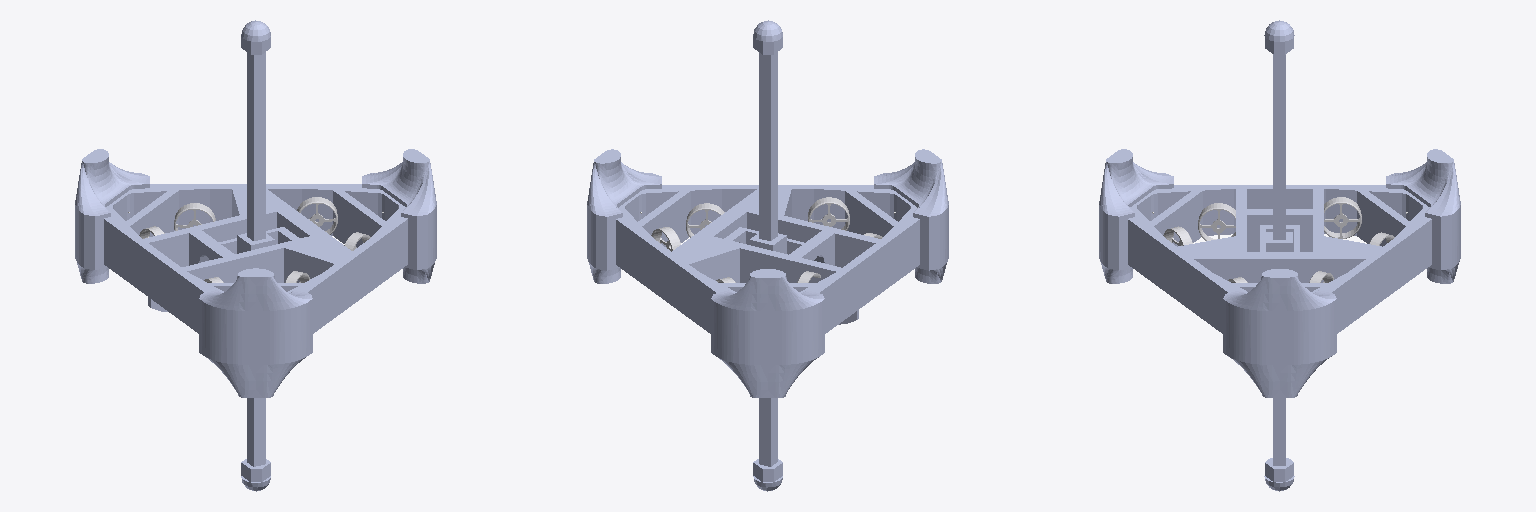
URDF robot description (ramiel2):
<?xml version="1.0" encoding="utf-8"?>
<!-- This URDF was automatically created by SolidWorks to URDF Exporter! Originally created by Stephen Brawner (brawner@gmail.com) 
     Commit Version: 1.6.0-4-g7f85cfe  Build Version: 1.6.7995.38578
     For more information, please see http://wiki.ros.org/sw_urdf_exporter -->
<robot
  name="ramiel2">
  <link
    name="base_link">
    <inertial>
      <origin
        xyz="-0.0163 0.0056 -0.00642"
        rpy="0 0 0" />
      <mass
        value="13.959" />
      <inertia
        ixx="0.58153312113"
        ixy="0.00047377296"
        ixz="0.01002995747"
        iyy="0.62883843864"
        iyz="-0.00135094509"
        izz="1.10481157886" />
    </inertial>
    <visual>
      <origin
        xyz="0 0 0"
        rpy="0 0 0" />
      <geometry>
        <mesh
          filename="../meshes/base_link.STL" />
      </geometry>
      <material
        name="">
        <color
          rgba="0.792156862745098 0.819607843137255 0.933333333333333 1" />
      </material>
    </visual>
    <collision>
      <geometry>
        <cylinder radius="0.04" length="0.29"/>
      </geometry>
      <origin xyz="0.37 0 0" rpy="0 0 0" />
    </collision>
    <collision>
      <geometry>
        <cylinder radius="0.04" length="0.29"/>
      </geometry>
      <origin xyz="-0.185 0.32 0" rpy="0 0 0" />
    </collision>
    <collision>
      <geometry>
        <cylinder radius="0.04" length="0.29"/>
      </geometry>
      <origin xyz="-0.185 -0.32 0" rpy="0 0 0" />
    </collision>
  </link>
  <link
    name="roll_pitch_link">
    <inertial>
      <origin
        xyz="-0.00089 0.0 0.00520"
        rpy="0 0 0" />
      <mass
        value="0.41229" />
      <inertia
        ixx="0.00063411708"
        ixy="1.4203e-7"
        ixz="0.00000170051"
        iyy="0.00193834263"
        iyz="3.96e-9"
        izz="0.00150421906" />
    </inertial>
    <visual>
      <origin
        xyz="0 0 0"
        rpy="0 0 0" />
      <geometry>
        <mesh
          filename="../meshes/roll_pitch_link.STL" />
      </geometry>
      <material
        name="">
        <color
          rgba="0.792156862745098 0.819607843137255 0.933333333333333 1" />
      </material>
    </visual>
  </link>
  <joint
    name="roll"
    type="revolute">
    <origin
      xyz="0 0 0"
      rpy="0 0 0" />
    <parent
      link="base_link" />
    <child
      link="roll_pitch_link" />
    <axis
      xyz="1 0 0" />
    <limit
      lower="-0.69813170079"
      upper="0.69813170079"
      effort="100"
      velocity="500" />
  </joint>
  <link
    name="pitch_slide_link">
    <inertial>
      <origin
        xyz="-0.00583 -0.00105 -0.00041"
        rpy="0 0 0" />
      <mass
        value="0.54748" />
      <inertia
        ixx="0.00066451246"
        ixy="0.00001381471"
        ixz="0.00000679945"
        iyy="0.00069734504"
        iyz="-5.6057e-7"
        izz="0.00051290376" />
    </inertial>
    <visual>
      <origin
        xyz="0 0 0"
        rpy="0 0 0" />
      <geometry>
        <mesh
          filename="../meshes/pitch_slide_link.STL" />
      </geometry>
      <material
        name="">
        <color
          rgba="0.792156862745098 0.819607843137255 0.933333333333333 1" />
      </material>
    </visual>
  </link>
  <joint
    name="pitch"
    type="revolute">
    <origin
      xyz="0 -0.001 0"
      rpy="0 0 0" />
    <parent
      link="roll_pitch_link" />
    <child
      link="pitch_slide_link" />
    <axis
      xyz="0 1 0" />
    <limit
      lower="-0.69813170079"
      upper="0.69813170079"
      effort="100"
      velocity="500" />
  </joint>
  <link
    name="leg_link">
    <inertial>
      <origin
        xyz="0.0 0.00001 0.0"
        rpy="0 0 0" />
      <mass
        value="0.616" />
      <inertia
        ixx="0.08657454998"
        ixy="0.00"
        ixz="0.00"
        iyy="0.0001891915"
        iyz="-3e-11"
        izz="0.08657454948" />
    </inertial>
    <visual>
      <origin
        xyz="0 0 0"
        rpy="0 0 0" />
      <geometry>
        <mesh
          filename="../meshes/leg_link.STL" />
      </geometry>
      <material
        name="">
        <color
          rgba="0.792156862745098 0.819607843137255 0.933333333333333 1" />
      </material>
    </visual>
    <collision>
      <geometry>
        <cylinder radius="0.033" length="1.064"/>
      </geometry>
      <origin xyz="0 0 0" rpy="0 0 0" />
    </collision>
  </link>
  <joint
    name="slide"
    type="prismatic">
    <origin
      xyz="0 0 0"
      rpy="0 0 0" />
    <parent
      link="pitch_slide_link" />
    <child
      link="leg_link" />
    <axis
      xyz="0 0 1" />
    <limit
      lower="-0.4195"
      upper="0.4195"
      effort="1000"
      velocity="20" />
  </joint>
 <link
    name="point_leg_0_1">
    <inertial>
      <origin
        xyz="2.08166817117217E-17 3.46944695195361E-18 0"
        rpy="0 0 0" />
      <mass
        value="3.41805280710569E-05" />
      <inertia
        ixx="5.46888449136911E-11"
        ixy="0"
        ixz="0"
        iyy="5.46888449136911E-11"
        iyz="0"
        izz="5.46888449136911E-11" />
    </inertial>
    <visual>
      <origin
        xyz="0 0 0"
        rpy="0 0 0" />
      <geometry>
        <mesh
          filename="../meshes/point_leg_0_1.STL" />
      </geometry>
      <material
        name="">
        <color
          rgba="1 1 1 1" />
      </material>
    </visual>
  </link>
  <joint
    name="point_leg_0_1_dummy"
    type="fixed"
    dont_collapse="true">
    <origin
      xyz="0.024 0 0.52"
      rpy="0 0 0" />
    <parent
      link="leg_link" />
    <child
      link="point_leg_0_1" />
    <axis
      xyz="0 0 0" />
  </joint>
  <link
    name="point_leg_1_1">
    <inertial>
      <origin
        xyz="4.3368E-16 -1.9429E-16 0"
        rpy="0 0 0" />
      <mass
        value="3.4181E-05" />
      <inertia
        ixx="5.4689E-11"
        ixy="0"
        ixz="0"
        iyy="5.4689E-11"
        iyz="0"
        izz="5.4689E-11" />
    </inertial>
    <visual>
      <origin
        xyz="0 0 0"
        rpy="0 0 0" />
      <geometry>
        <mesh
          filename="../meshes/point_leg_1_1.STL" />
      </geometry>
      <material
        name="">
        <color
          rgba="1 1 1 1" />
      </material>
    </visual>
  </link>
  <joint
    name="point_leg_1_1_dummy"
    type="fixed"
    dont_collapse="true">
    <origin
      xyz="-0.012 0.020785 0.52"
      rpy="0 0 0" />
    <parent
      link="leg_link" />
    <child
      link="point_leg_1_1" />
    <axis
      xyz="0 0 0" />
  </joint>
 <link
    name="point_leg_2_1">
    <inertial>
      <origin
        xyz="-4.38885039422132E-16 7.28583859910259E-17 0"
        rpy="0 0 0" />
      <mass
        value="3.41805280710569E-05" />
      <inertia
        ixx="5.46888449136911E-11"
        ixy="0"
        ixz="0"
        iyy="5.46888449136911E-11"
        iyz="0"
        izz="5.46888449136911E-11" />
    </inertial>
    <visual>
      <origin
        xyz="0 0 0"
        rpy="0 0 0" />
      <geometry>
        <mesh
          filename="../meshes/point_leg_2_1.STL" />
      </geometry>
      <material
        name="">
        <color
          rgba="1 1 1 1" />
      </material>
    </visual>
  </link>
  <joint
    name="point_leg_2_1_dummy"
    type="fixed"
    dont_collapse="true">
    <origin
      xyz="-0.012 -0.0207846096908265 0.52"
      rpy="0 0 0" />
    <parent
      link="leg_link" />
    <child
      link="point_leg_2_1" />
    <axis
      xyz="0 0 0" />
  </joint>
  <link
    name="point_leg_3_1">
    <inertial>
      <origin
        xyz="2.08166817117217E-17 3.46944695195361E-18 0"
        rpy="0 0 0" />
      <mass
        value="3.41805280710569E-05" />
      <inertia
        ixx="5.46888449136911E-11"
        ixy="0"
        ixz="0"
        iyy="5.46888449136911E-11"
        iyz="0"
        izz="5.46888449136911E-11" />
    </inertial>
    <visual>
      <origin
        xyz="0 0 0"
        rpy="0 0 0" />
      <geometry>
        <mesh
          filename="../meshes/point_leg_3_1.STL" />
      </geometry>
      <material
        name="">
        <color
          rgba="1 1 1 1" />
      </material>
    </visual>
  </link>
  <joint
    name="point_leg_3_1_dummy"
    type="fixed"
    dont_collapse="true">
    <origin
      xyz="0.024 0 -0.52"
      rpy="0 0 0" />
    <parent
      link="leg_link" />
    <child
      link="point_leg_3_1" />
    <axis
      xyz="0 0 0" />
  </joint>
  <link
    name="point_leg_4_1">
    <inertial>
      <origin
        xyz="-3.59087759527199E-16 6.93889390390723E-18 0"
        rpy="0 0 0" />
      <mass
        value="3.41805280710569E-05" />
      <inertia
        ixx="5.46888449136911E-11"
        ixy="0"
        ixz="0"
        iyy="5.46888449136911E-11"
        iyz="0"
        izz="5.46888449136911E-11" />
    </inertial>
    <visual>
      <origin
        xyz="0 0 0"
        rpy="0 0 0" />
      <geometry>
        <mesh
          filename="../meshes/point_leg_4_1.STL" />
      </geometry>
      <material
        name="">
        <color
          rgba="1 1 1 1" />
      </material>
    </visual>
  </link>
  <joint
    name="point_leg_4_1_dummy"
    type="fixed"
    dont_collapse="true">
    <origin
      xyz="-0.0120000000000001 0.0207846096908265 -0.52"
      rpy="0 0 0" />
    <parent
      link="leg_link" />
    <child
      link="point_leg_4_1" />
    <axis
      xyz="0 0 0" />
  </joint>
  <link
    name="point_leg_5_1">
    <inertial>
      <origin
        xyz="-2.02962646689286E-16 -3.46944695195361E-18 0"
        rpy="0 0 0" />
      <mass
        value="3.41805280710569E-05" />
      <inertia
        ixx="5.46888449136911E-11"
        ixy="0"
        ixz="0"
        iyy="5.46888449136911E-11"
        iyz="0"
        izz="5.46888449136911E-11" />
    </inertial>
    <visual>
      <origin
        xyz="0 0 0"
        rpy="0 0 0" />
      <geometry>
        <mesh
          filename="../meshes/point_leg_5_1.STL" />
      </geometry>
      <material
        name="">
        <color
          rgba="1 1 1 1" />
      </material>
    </visual>
  </link>
  <joint
    name="point_leg_5_1_dummy"
    type="fixed"
    dont_collapse="true">
    <origin
      xyz="-0.012 -0.020785 -0.52"
      rpy="0 0 0" />
    <parent
      link="leg_link" />
    <child
      link="point_leg_5_1" />
    <axis
      xyz="0 0 0" />
  </joint>
  <link
    name="point_base_0_0">
    <inertial>
      <origin
        xyz="0 -8.59044900932015E-18 3.46944695195361E-18"
        rpy="0 0 0" />
      <mass
        value="3.41805280710569E-05" />
      <inertia
        ixx="5.46888449136911E-11"
        ixy="0"
        ixz="0"
        iyy="5.46888449136911E-11"
        iyz="0"
        izz="5.46888449136911E-11" />
    </inertial>
    <visual>
      <origin
        xyz="0 0 0"
        rpy="0 0 0" />
      <geometry>
        <mesh
          filename="../meshes/point_base_0_0.STL" />
      </geometry>
      <material
        name="">
        <color
          rgba="1 1 1 1" />
      </material>
    </visual>
  </link>
  <joint
    name="point_base_0_0_dummy"
    type="fixed"
    dont_collapse="true">
    <origin
      xyz="0.32 0 0.03"
      rpy="0 0 0" />
    <parent
      link="base_link" />
    <child
      link="point_base_0_0" />
    <axis
      xyz="0 0 0" />
  </joint>
  <link
    name="point_base_1_0">
    <inertial>
      <origin
        xyz="1.38777878078145E-16 0 1.38777878078145E-17"
        rpy="0 0 0" />
      <mass
        value="3.41805280710569E-05" />
      <inertia
        ixx="5.46888449136911E-11"
        ixy="0"
        ixz="0"
        iyy="5.46888449136911E-11"
        iyz="0"
        izz="5.46888449136911E-11" />
    </inertial>
    <visual>
      <origin
        xyz="0 0 0"
        rpy="0 0 0" />
      <geometry>
        <mesh
          filename="../meshes/point_base_1_0.STL" />
      </geometry>
      <material
        name="">
        <color
          rgba="1 1 1 1" />
      </material>
    </visual>
  </link>
  <joint
    name="point_base_1_0_dummy"
    type="fixed"
    dont_collapse="true">
    <origin
      xyz="-0.16 0.27713 0.03"
      rpy="0 0 0" />
    <parent
      link="base_link" />
    <child
      link="point_base_1_0" />
    <axis
      xyz="0 0 0" />
  </joint>
  <link
    name="point_base_2_0">
    <inertial>
      <origin
        xyz="-4.16333634234434E-16 -5.55111512312578E-17 1.73472347597681E-17"
        rpy="0 0 0" />
      <mass
        value="3.41805280710569E-05" />
      <inertia
        ixx="5.46888449136911E-11"
        ixy="0"
        ixz="0"
        iyy="5.46888449136911E-11"
        iyz="0"
        izz="5.46888449136911E-11" />
    </inertial>
    <visual>
      <origin
        xyz="0 0 0"
        rpy="0 0 0" />
      <geometry>
        <mesh
          filename="../meshes/point_base_2_0.STL" />
      </geometry>
      <material
        name="">
        <color
          rgba="1 1 1 1" />
      </material>
    </visual>
  </link>
  <joint
    name="point_base_2_0_dummy"
    type="fixed"
    dont_collapse="true">
    <origin
      xyz="-0.16 -0.27713 0.03"
      rpy="0 0 0" />
    <parent
      link="base_link" />
    <child
      link="point_base_2_0" />
    <axis
      xyz="0 0 0" />
  </joint>
  <link
    name="point_base_3_0">
    <inertial>
      <origin
        xyz="0 -2.3039615008817E-18 3.46944695195361E-18"
        rpy="0 0 0" />
      <mass
        value="3.41805280710569E-05" />
      <inertia
        ixx="5.46888449136911E-11"
        ixy="0"
        ixz="0"
        iyy="5.46888449136911E-11"
        iyz="0"
        izz="5.46888449136911E-11" />
    </inertial>
    <visual>
      <origin
        xyz="0 0 0"
        rpy="0 0 0" />
      <geometry>
        <mesh
          filename="../meshes/point_base_3_0.STL" />
      </geometry>
      <material
        name="">
        <color
          rgba="1 1 1 1" />
      </material>
    </visual>
  </link>
  <joint
    name="point_base_3_0_dummy"
    type="fixed"
    dont_collapse="true">
    <origin
      xyz="0.32 0 -0.0299999999999999"
      rpy="0 0 0" />
    <parent
      link="base_link" />
    <child
      link="point_base_3_0" />
    <axis
      xyz="0 0 0" />
  </joint>
  <link
    name="point_base_4_0">
    <inertial>
      <origin
        xyz="1.94289029309402E-16 0 2.77555756156289E-17"
        rpy="0 0 0" />
      <mass
        value="3.41805280710569E-05" />
      <inertia
        ixx="5.46888449136911E-11"
        ixy="0"
        ixz="0"
        iyy="5.46888449136911E-11"
        iyz="0"
        izz="5.46888449136911E-11" />
    </inertial>
    <visual>
      <origin
        xyz="0 0 0"
        rpy="0 0 0" />
      <geometry>
        <mesh
          filename="../meshes/point_base_4_0.STL" />
      </geometry>
      <material
        name="">
        <color
          rgba="1 1 1 1" />
      </material>
    </visual>
  </link>
  <joint
    name="point_base_4_0_dummy"
    type="fixed"
    dont_collapse="true">
    <origin
      xyz="-0.16 0.27713 -0.03"
      rpy="0 0 0" />
    <parent
      link="base_link" />
    <child
      link="point_base_4_0" />
    <axis
      xyz="0 0 0" />
  </joint>
  <link
    name="point_base_5_0">
    <inertial>
      <origin
        xyz="8.32667268468867E-17 -5.55111512312578E-17 3.12250225675825E-17"
        rpy="0 0 0" />
      <mass
        value="3.41805280710569E-05" />
      <inertia
        ixx="5.46888449136911E-11"
        ixy="0"
        ixz="0"
        iyy="5.46888449136911E-11"
        iyz="0"
        izz="5.46888449136911E-11" />
    </inertial>
    <visual>
      <origin
        xyz="0 0 0"
        rpy="0 0 0" />
      <geometry>
        <mesh
          filename="../meshes/point_base_5_0.STL" />
      </geometry>
      <material
        name="">
        <color
          rgba="1 1 1 1" />
      </material>
    </visual>
  </link>
  <joint
    name="point_base_5_0_dummy"
    type="fixed"
    dont_collapse="true">
    <origin
      xyz="-0.16 -0.27713 -0.03"
      rpy="0 0 0" />
    <parent
      link="base_link" />
    <child
      link="point_base_5_0" />
    <axis
      xyz="0 0 0" />
  </joint>
  <link
    name="motor_0_link">
    <inertial>
      <origin
        xyz="0.014366 2.7756E-17 -2.6021E-17"
        rpy="0 0 0" />
      <mass
        value="0.0001" />
      <inertia
        ixx="0.00023762"
        ixy="-2.7105E-20"
        ixz="4.6645E-20"
        iyy="0.00012729"
        iyz="-3.5725E-20"
        izz="0.00012729" />
    </inertial>
    <visual>
      <origin
        xyz="0 0 0"
        rpy="0 0 0" />
      <geometry>
        <mesh
          filename="../meshes/motor_0_link.STL" />
      </geometry>
      <material
        name="">
        <color
          rgba="0.8902 0.8902 0.91373 1" />
      </material>
    </visual>
  </link>
  <joint
    name="motor_0"
    type="revolute">
    <origin
      xyz="-0.019259 -0.23197 0.00725"
      rpy="0 0 2.1468" />
    <parent
      link="base_link" />
    <child
      link="motor_0_link" />
    <axis
      xyz="-1 0 0" />
    <limit
      effort="10"
      velocity="2000" />
  </joint>
  <link
    name="motor_1_link">
    <inertial>
      <origin
        xyz="0.014366 0 -3.8164E-17"
        rpy="0 0 0" />
      <mass
        value="0.0001" />
      <inertia
        ixx="0.00023762"
        ixy="-3.0493E-20"
        ixz="5.7428E-20"
        iyy="0.00012729"
        iyz="-2.3754E-21"
        izz="0.00012729" />
    </inertial>
    <visual>
      <origin
        xyz="0 0 0"
        rpy="0 0 0" />
      <geometry>
        <mesh
          filename="../meshes/motor_1_link.STL" />
      </geometry>
      <material
        name="">
        <color
          rgba="0.8902 0.8902 0.91373 1" />
      </material>
    </visual>
  </link>
  <joint
    name="motor_1"
    type="revolute">
    <origin
      xyz="0.21052 0.099308 0.00725"
      rpy="0 0 -2.042" />
    <parent
      link="base_link" />
    <child
      link="motor_1_link" />
    <axis
      xyz="-1 0 0" />
    <limit
      effort="10"
      velocity="2000" />
  </joint>
  <link
    name="motor_2_link">
    <inertial>
      <origin
        xyz="0.014347 0.00075188 -5.1174E-17"
        rpy="0 0 0" />
      <mass
        value="0.0001" />
      <inertia
        ixx="0.00023732"
        ixy="5.7666E-06"
        ixz="1.4233E-19"
        iyy="0.00012759"
        iyz="-5.9704E-20"
        izz="0.00012729" />
    </inertial>
    <visual>
      <origin
        xyz="0 0 0"
        rpy="0 0 0" />
      <geometry>
        <mesh
          filename="../meshes/motor_2_link.STL" />
      </geometry>
      <material
        name="">
        <color
          rgba="0.8902 0.8902 0.91373 1" />
      </material>
    </visual>
  </link>
  <joint
    name="motor_2"
    type="revolute">
    <origin
      xyz="-0.19127 0.13266 0.00725"
      rpy="0 0 0" />
    <parent
      link="base_link" />
    <child
      link="motor_2_link" />
    <axis
      xyz="-0.99863 -0.052336 0" />
    <limit
      effort="10"
      velocity="2000" />
  </joint>
  <link
    name="motor_3_link">
    <inertial>
      <origin
        xyz="0.014366 0 -2.6021E-17"
        rpy="0 0 0" />
      <mass
        value="0.0001" />
      <inertia
        ixx="0.00023762"
        ixy="-4.0658E-20"
        ixz="1.9142E-20"
        iyy="0.00012729"
        iyz="-9.4036E-21"
        izz="0.00012729" />
    </inertial>
    <visual>
      <origin
        xyz="0 0 0"
        rpy="0 0 0" />
      <geometry>
        <mesh
          filename="../meshes/motor_3_link.STL" />
      </geometry>
      <material
        name="">
        <color
          rgba="0.8902 0.8902 0.91373 1" />
      </material>
    </visual>
  </link>
  <joint
    name="motor_3"
    type="revolute">
    <origin
      xyz="-0.019259 0.23197 -0.00725"
      rpy="0 0 -2.1468" />
    <parent
      link="base_link" />
    <child
      link="motor_3_link" />
    <axis
      xyz="-1 0 0" />
    <limit
      effort="10"
      velocity="2000" />
  </joint>
  <link
    name="motor_4_link">
    <inertial>
      <origin
        xyz="0.014347 -0.00075188 -4.8572E-17"
        rpy="0 0 0" />
      <mass
        value="0.0001" />
      <inertia
        ixx="0.00023732"
        ixy="-5.7666E-06"
        ixz="-1.0679E-19"
        iyy="0.00012759"
        iyz="4.1588E-20"
        izz="0.00012729" />
    </inertial>
    <visual>
      <origin
        xyz="0 0 0"
        rpy="0 0 0" />
      <geometry>
        <mesh
          filename="../meshes/motor_4_link.STL" />
      </geometry>
      <material
        name="">
        <color
          rgba="0.8902 0.8902 0.91373 1" />
      </material>
    </visual>
  </link>
  <joint
    name="motor_4"
    type="revolute">
    <origin
      xyz="-0.19127 -0.13266 -0.00725"
      rpy="0 0 0" />
    <parent
      link="base_link" />
    <child
      link="motor_4_link" />
    <axis
      xyz="-0.99863 0.052336 0" />
    <limit
      effort="10"
      velocity="2000" />
  </joint>
  <link
    name="motor_5_link">
    <inertial>
      <origin
        xyz="0.014366 0 -3.9031E-17"
        rpy="0 0 0" />
      <mass
        value="0.0001" />
      <inertia
        ixx="0.00023762"
        ixy="6.7763E-21"
        ixz="3.4641E-20"
        iyy="0.00012729"
        iyz="-1.797E-20"
        izz="0.00012729" />
    </inertial>
    <visual>
      <origin
        xyz="0 0 0"
        rpy="0 0 0" />
      <geometry>
        <mesh
          filename="../meshes/motor_5_link.STL" />
      </geometry>
      <material
        name="">
        <color
          rgba="0.8902 0.8902 0.91373 1" />
      </material>
    </visual>
  </link>
  <joint
    name="motor_5"
    type="revolute">
    <origin
      xyz="0.210523758501758 -0.0993079211435383 -0.00724999999999996"
      rpy="0 0 2.04203522483338" />
    <parent
      link="base_link" />
    <child
      link="motor_5_link" />
    <axis
      xyz="-1 0 0" />
    <limit
      effort="10"
      velocity="2000" />
  </joint>
</robot>

--- Render facts (derived) ---
Views: 3 orthographic renders of the robot side by side, from view 1: azimuth 30°, elevation 25°; view 2: azimuth 150°, elevation 25°; view 3: azimuth 270°, elevation 25°.
Model ramiel2 with 22 links and 21 joints (8 revolute, 1 prismatic, 12 fixed), rooted at base_link, posed every joint at zero.
Visible links, largest first — view 1: base_link, leg_link, motor_1_link; view 2: base_link, leg_link, motor_0_link; view 3: base_link, leg_link, motor_2_link, motor_4_link.
Boxes of the visible links, x1,y1,x2,y2 form: base_link: (75, 149, 436, 397); leg_link: (241, 20, 270, 491); motor_1_link: (297, 197, 337, 234); base_link: (587, 149, 948, 397); leg_link: (753, 20, 782, 491); motor_0_link: (808, 197, 849, 230); base_link: (1099, 149, 1460, 397); leg_link: (1264, 20, 1294, 491); motor_2_link: (1324, 197, 1361, 238); motor_4_link: (1198, 203, 1235, 240).
Size in the robot's own frame: 0.7125 by 0.7907 by 1.13 metres.
Meshes: 22 distinct files referenced, 21 mesh visuals loaded (21 binary STL); not drawn: 1 (reference not matched to a file when rendering).
